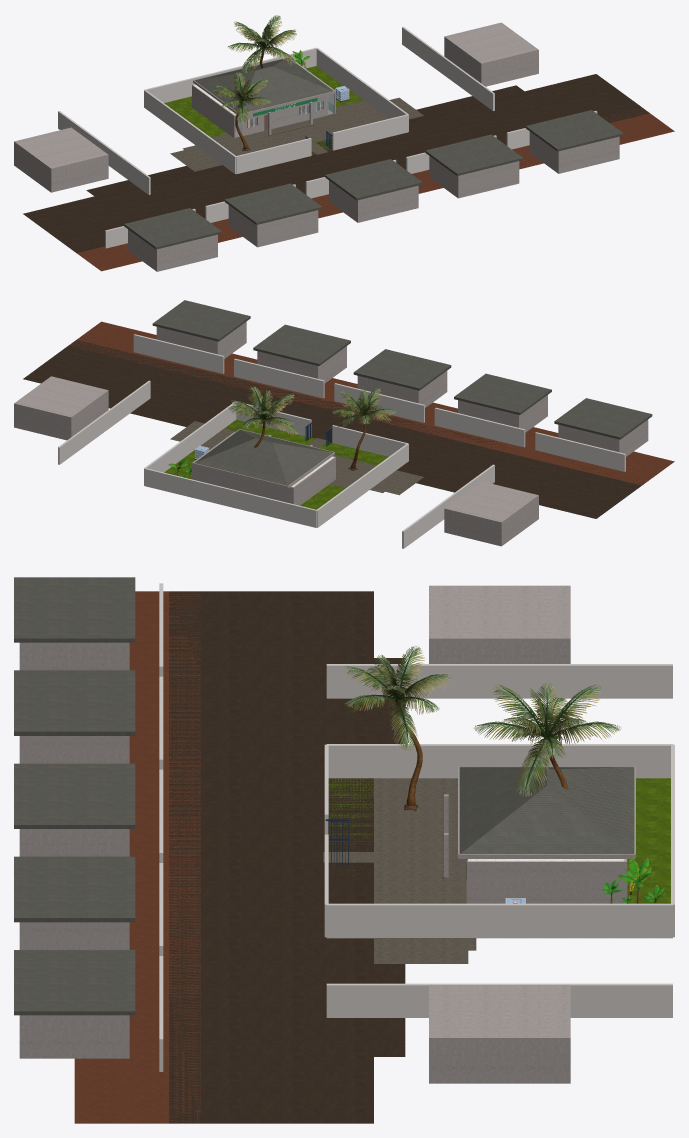
The model's file is home.v4.glb.
3 views of the same model, one above another, from view 1: azimuth 30°, elevation 25°; view 2: azimuth 150°, elevation 25°; view 3: azimuth 270°, elevation 25° (orthographic). The views are drawn at different scales.
Visible parts, largest first — view 1: neighbours, street, compound_wall, health_street, verge, roof, citrus_pavement, shop_street, citrus_street, health_walls, Bark_Material #322_0, plot_grass (+4 smaller); view 2: neighbours, street, compound_wall, verge, health_street, roof, health_walls, plot_grass, health_pavement, Bark_Material #322_0, citrus_street, palm (+3 smaller); view 3: neighbours, street, verge, health_street, compound_wall, roof, citrus_street, health_walls, Bark_Material #322_0, health_pavement, plot_grass, shop_pavement (+6 smaller).
Part boxes in pixels (x1,y1,x2,y2): neighbours: (14,22,623,271); street: (36,83,641,246); compound_wall: (144,47,408,174); health_street: (23,74,649,253); verge: (77,108,674,271); roof: (194,58,333,113); citrus_pavement: (182,103,388,164); shop_street: (86,85,537,204); citrus_street: (91,89,535,205); health_walls: (192,61,335,138); Bark_Material #322_0: (227,15,296,72); plot_grass: (164,66,362,154); neighbours: (14,300,652,548); street: (36,345,641,509); compound_wall: (144,401,408,527); verge: (69,321,674,485); health_street: (23,340,648,518); roof: (194,429,333,485); health_walls: (192,432,335,505); plot_grass: (164,419,388,509); health_pavement: (170,421,423,495); Bark_Material #322_0: (228,386,298,447); citrus_street: (105,387,536,492); palm: (332,388,396,470); neighbours: (14,577,672,1083); street: (200,591,323,1123); verge: (74,591,200,1123); health_street: (169,591,373,1123); compound_wall: (324,744,674,938); roof: (459,767,634,853); citrus_street: (323,658,389,1056); health_walls: (466,859,627,903); Bark_Material #322_0: (473,682,620,796); health_pavement: (374,778,468,963); plot_grass: (328,778,670,903); shop_pavement: (405,778,466,903).
Size of the model in its own units: 80 by 12.45 by 41.98.
Materials: 95 (26 with a texture image).
